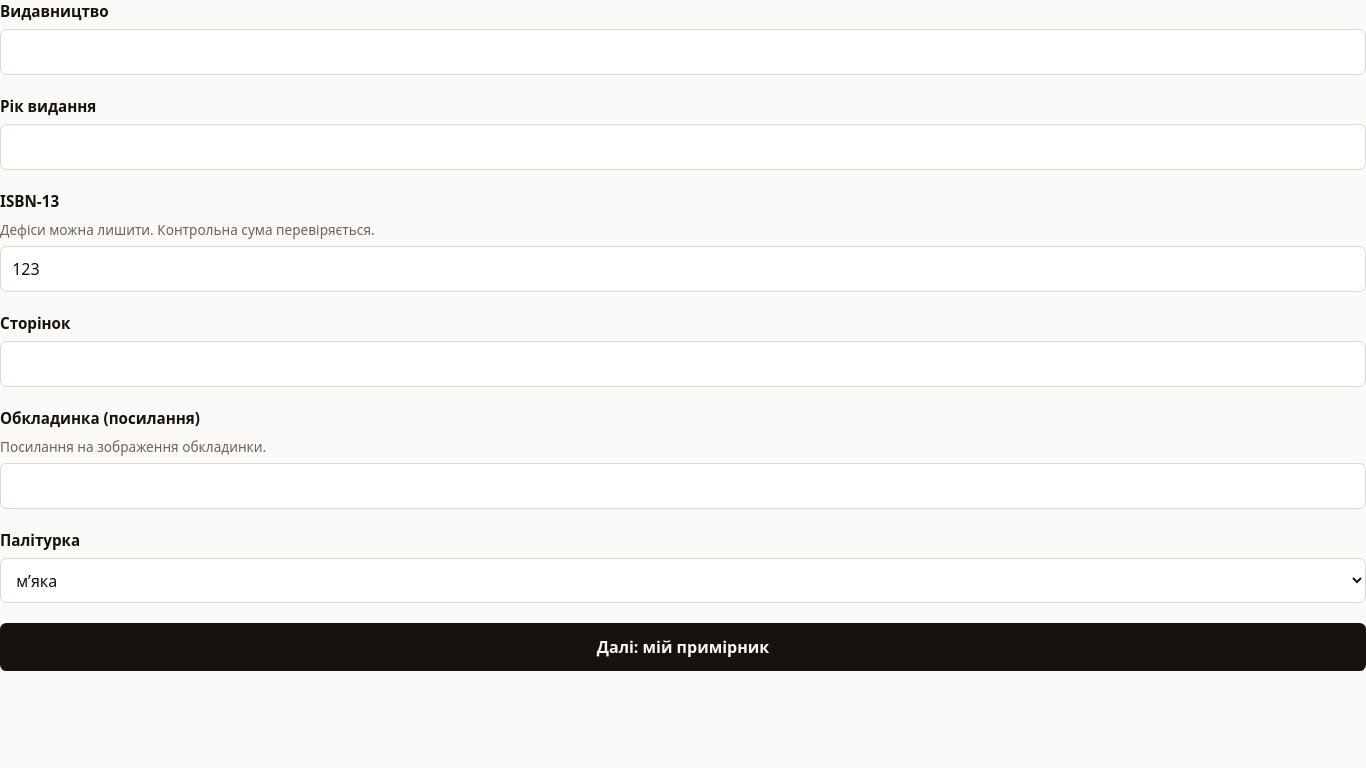
Test: shows shared validation and create-Edition API errors
The image size is (1366, 768).
Click the button "Далі: мій примірник". click: (683, 647)
box: left=0, top=623, right=1365, bottom=671
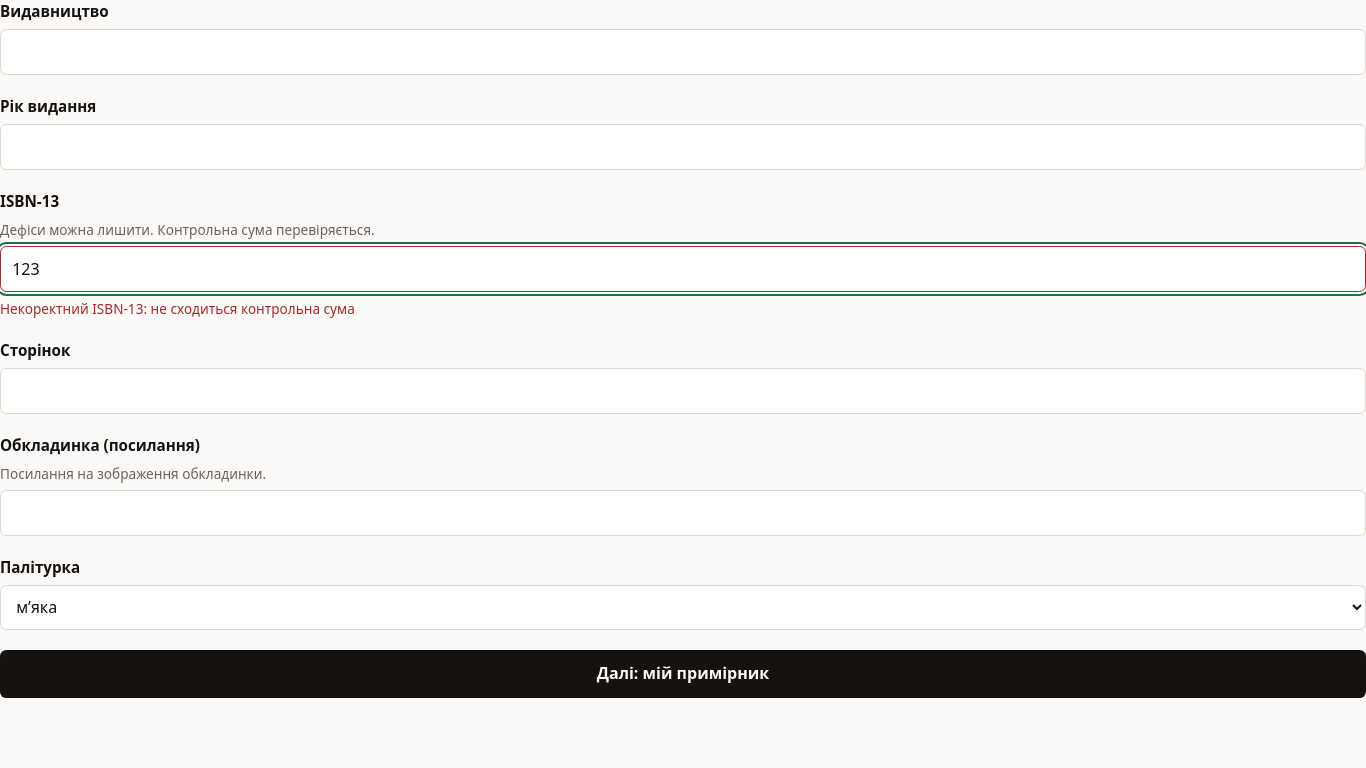
Expected: the text "Некоректний ISBN-13: не сходиться контрольна сума" is shown, left=0, top=299, right=355, bottom=318
Clear the field labelled "ISBN-13". click: (683, 269)
box: left=0, top=246, right=1365, bottom=292
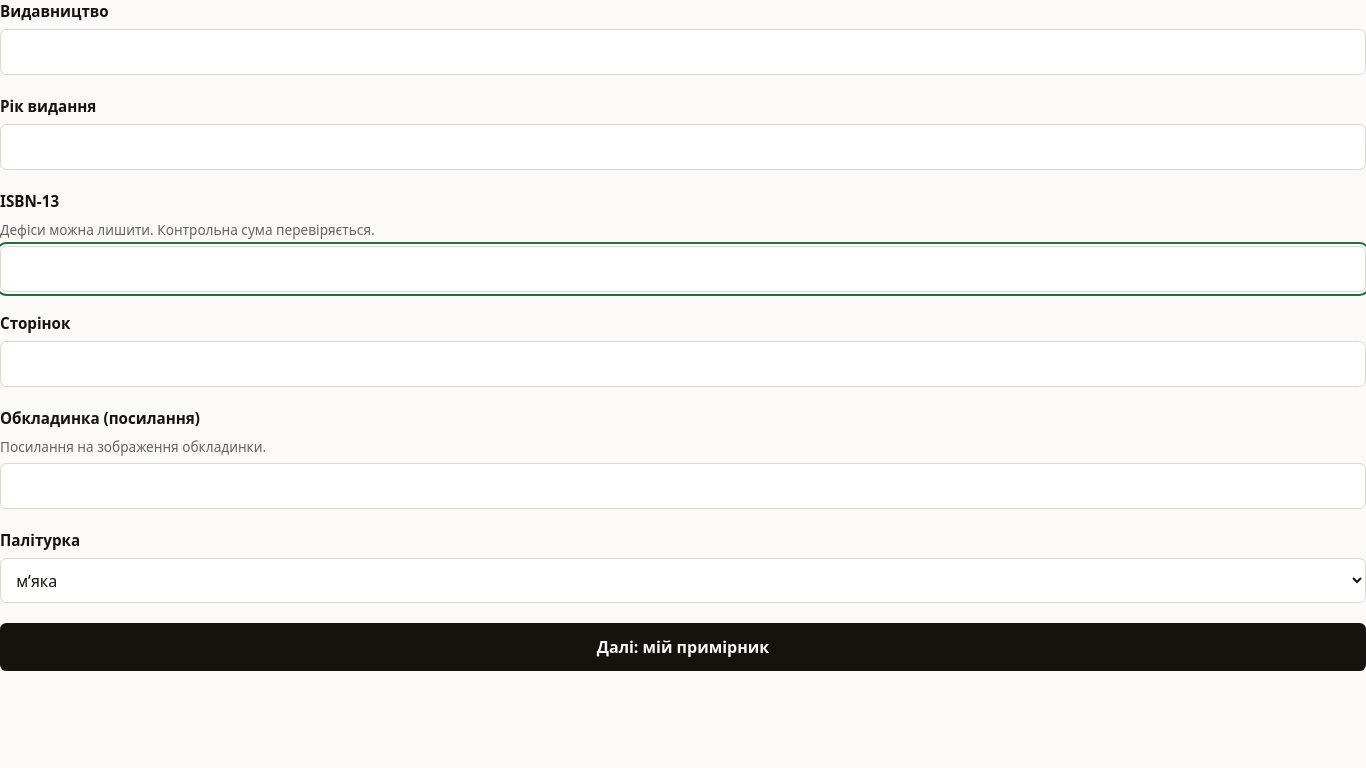
Click the button "Далі: мій примірник". click: (683, 647)
box: left=0, top=623, right=1365, bottom=671
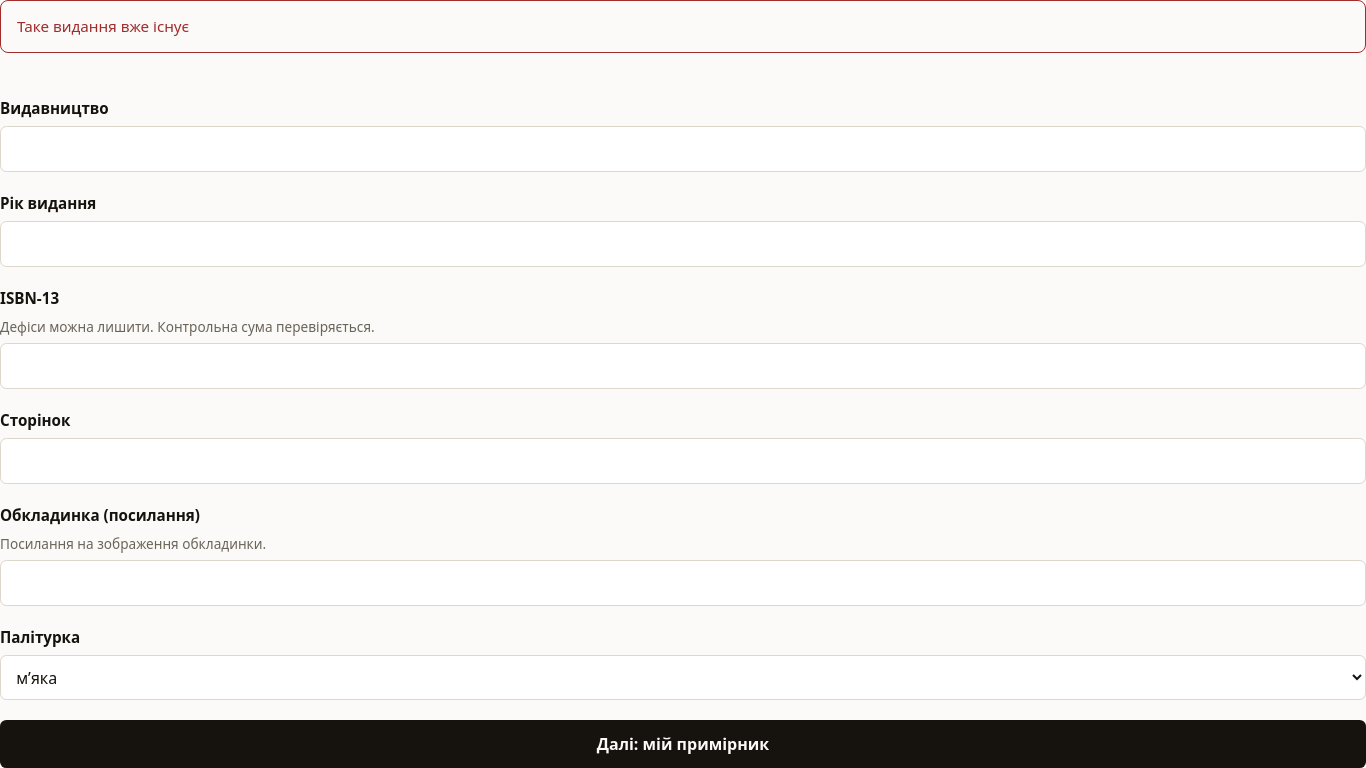
Expected: the text "Таке видання вже існує" is shown, left=17, top=16, right=189, bottom=36
